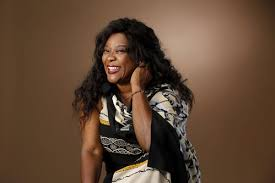black_female: (92, 12, 158, 89)
